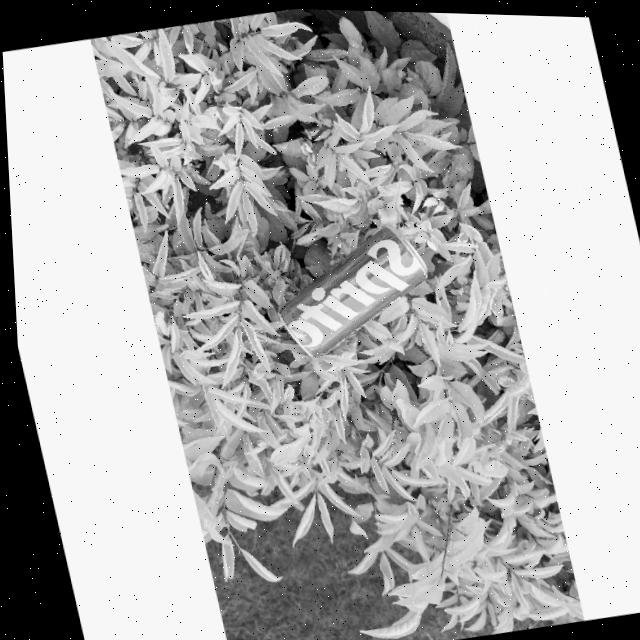Sprite: (254, 218, 436, 360)
